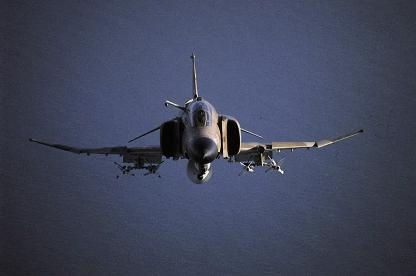F35: (28, 52, 364, 183)
